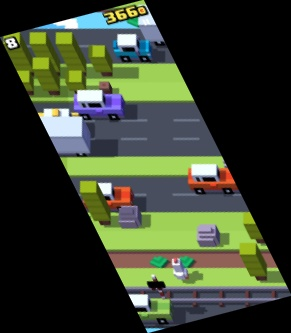car: (116, 294, 173, 327), (79, 182, 136, 212), (74, 90, 125, 121), (187, 165, 239, 195), (34, 109, 79, 137), (112, 35, 155, 61)
duck: (171, 259, 189, 281)
light off: (147, 274, 171, 306)
lilypad: (126, 9, 146, 28), (148, 253, 169, 268), (175, 255, 195, 268)
rail: (120, 284, 291, 306)
rock: (117, 206, 142, 229), (197, 224, 220, 248)
stump: (98, 81, 113, 96)
tree: (2, 30, 34, 72), (29, 32, 60, 74), (56, 32, 86, 73), (239, 241, 267, 282), (33, 59, 59, 96), (243, 212, 272, 243), (89, 45, 113, 77), (16, 71, 37, 94), (65, 71, 87, 91)
truck: (138, 9, 204, 47)
water: (32, 6, 168, 30), (105, 253, 279, 268), (141, 326, 167, 333)
